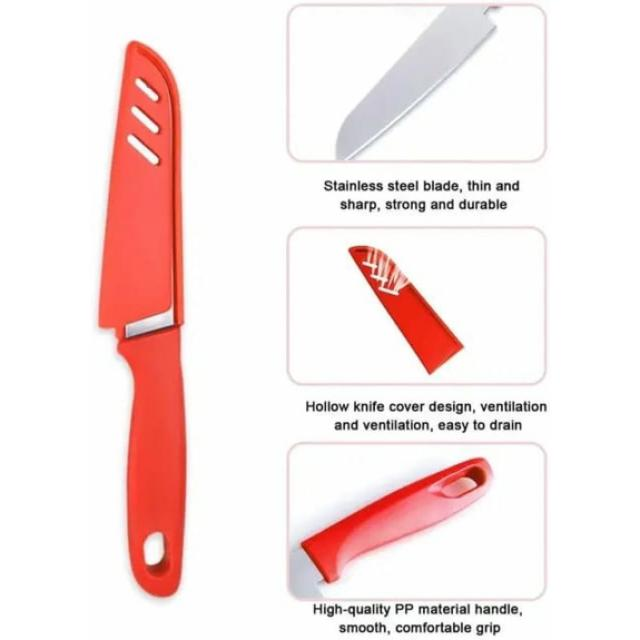Pisau: (94, 24, 202, 620)
